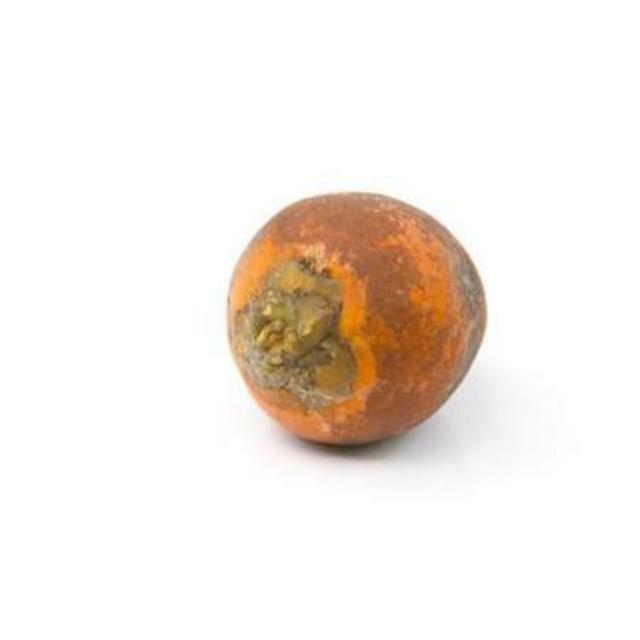good: (225, 192, 489, 448)
